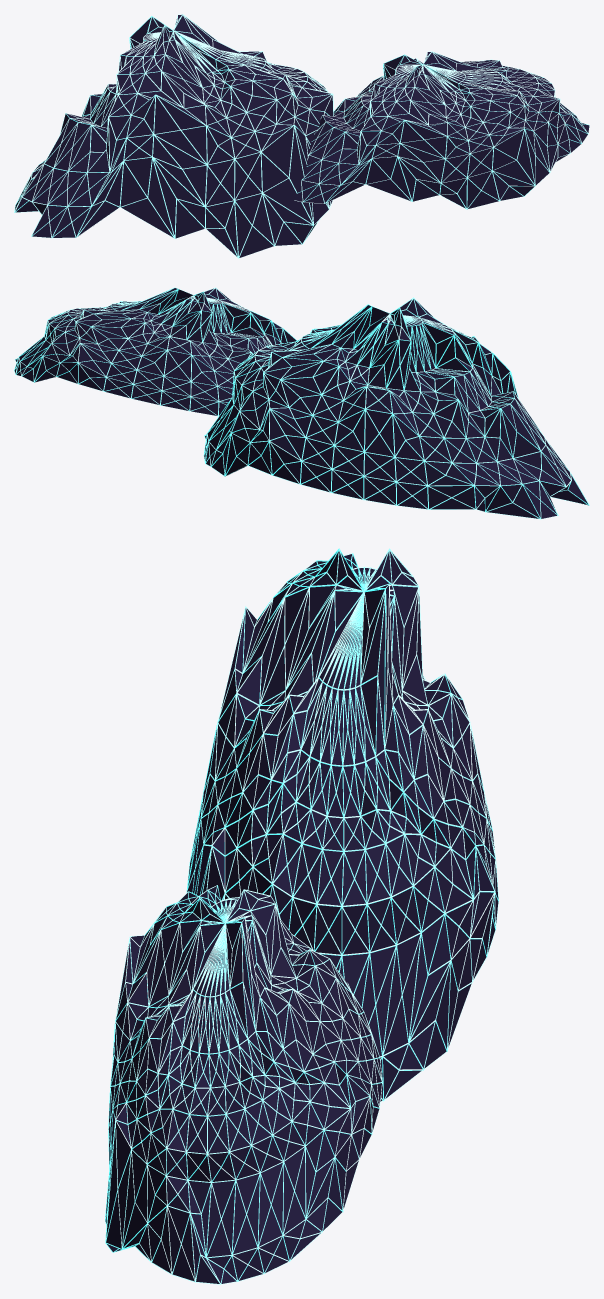
3 renders of one model, top to bottom at view 1: azimuth 30°, elevation 25°; view 2: azimuth 150°, elevation 25°; view 3: azimuth 270°, elevation 25°, orthographic. The views are drawn at different scales.
Bounding box in the file's own units: 8252 × 3093 × 2590.
